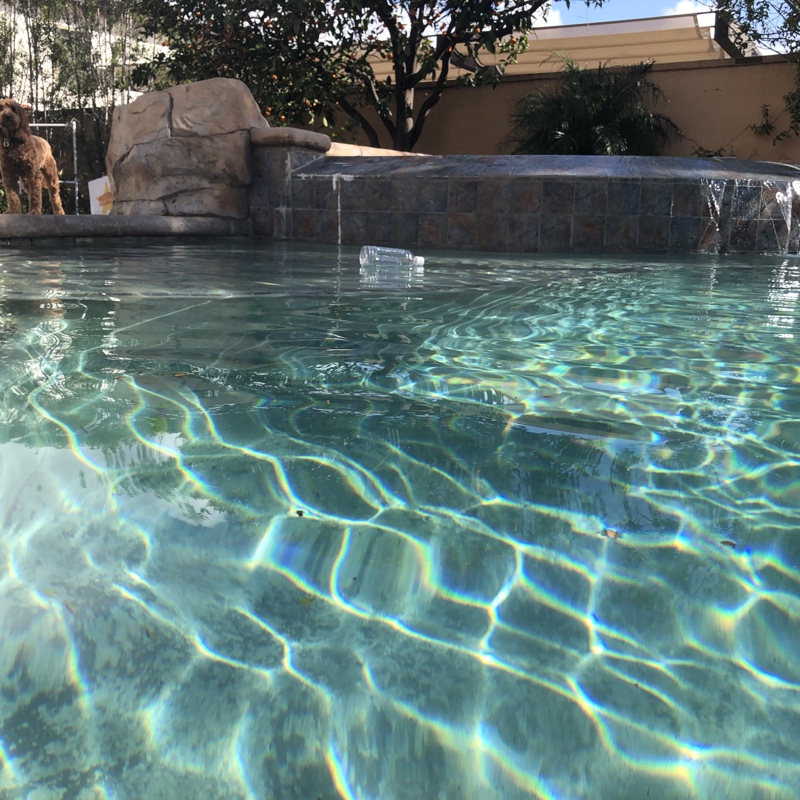Plastic Bottle: (356, 241, 426, 275)
